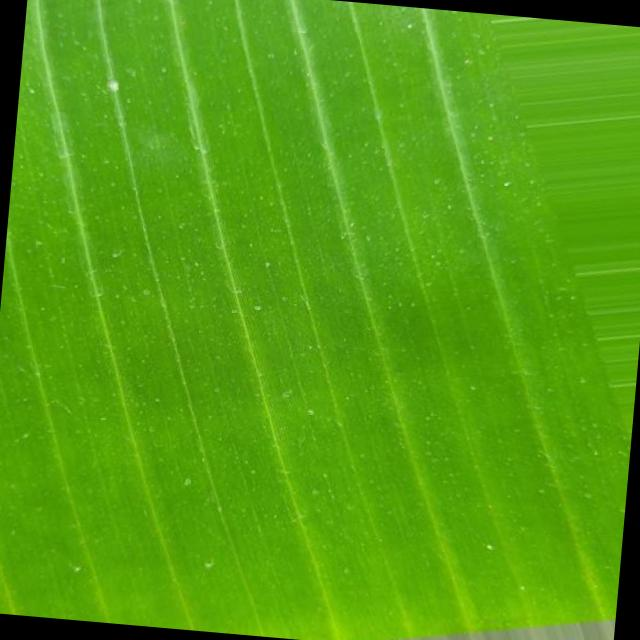Banana_Healthy: (65, 46, 640, 640)
